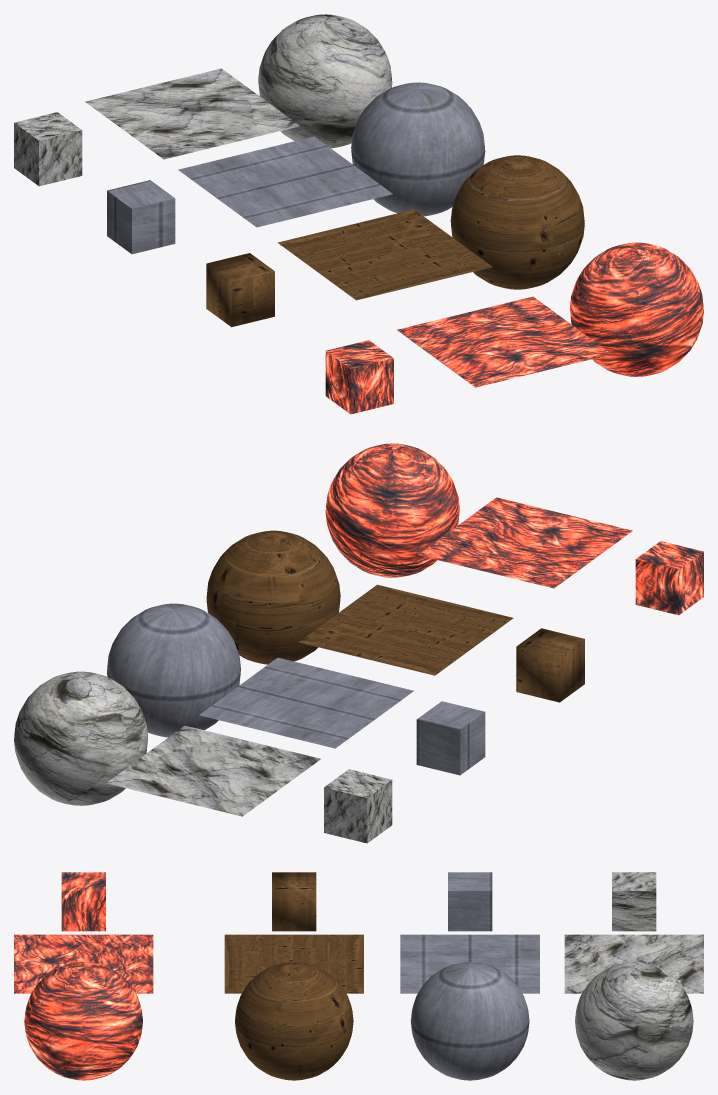
File: texture test_min.glb
The picture shows the model from 3 angles, top to bottom: view 1: azimuth 30°, elevation 25°; view 2: azimuth 150°, elevation 25°; view 3: azimuth 270°, elevation 25°; orthographic projection. The views are drawn at different scales.
Parts seen in each view (by area): view 1: Sphere, Sphere.002, Pipe, Sphere.003, Plane, Plane.001, Plane.003, Plane.002, Cube.001, Cube.002, Cube.003, Cube; view 2: Sphere.002, Sphere.003, Sphere, Pipe, Plane.001, Plane.002, Plane, Plane.003, Cube.001, Cube, Cube.002, Cube.003; view 3: Pipe, Sphere, Sphere.002, Sphere.003, Plane.001, Plane, Plane.002, Plane.003, Cube, Cube.001, Cube.002, Cube.003.
Part boxes in pixels (<box>): Sphere: <box>450,155,584,289</box>; Sphere.002: <box>570,242,703,376</box>; Pipe: <box>351,82,485,216</box>; Sphere.003: <box>258,14,392,148</box>; Plane: <box>278,209,492,300</box>; Plane.001: <box>178,136,392,227</box>; Plane.003: <box>85,68,299,159</box>; Plane.002: <box>397,296,611,387</box>; Cube.001: <box>107,180,175,254</box>; Cube.002: <box>325,340,393,414</box>; Cube.003: <box>14,112,82,186</box>; Cube: <box>206,253,274,327</box>; Sphere.002: <box>325,443,459,577</box>; Sphere.003: <box>14,671,147,805</box>; Sphere: <box>206,530,340,664</box>; Pipe: <box>107,603,240,737</box>; Plane.001: <box>199,657,413,748</box>; Plane.002: <box>418,497,632,588</box>; Plane: <box>298,584,513,675</box>; Plane.003: <box>106,725,320,816</box>; Cube.001: <box>416,701,485,775</box>; Cube: <box>516,628,584,702</box>; Cube.002: <box>635,541,703,615</box>; Cube.003: <box>324,769,392,843</box>; Pipe: <box>410,962,529,1080</box>; Sphere: <box>235,962,353,1080</box>; Sphere.002: <box>24,962,142,1080</box>; Sphere.003: <box>575,962,693,1080</box>; Plane.001: <box>400,934,539,993</box>; Plane: <box>224,934,363,993</box>; Plane.002: <box>14,934,153,993</box>; Plane.003: <box>564,934,703,993</box>; Cube: <box>272,872,316,931</box>; Cube.001: <box>448,872,492,931</box>; Cube.002: <box>61,872,105,931</box>; Cube.003: <box>612,872,656,931</box>.
Bounding box in the file's own units: 16.45 × 5.36 × 31.17.
4 materials, 4 textured.
